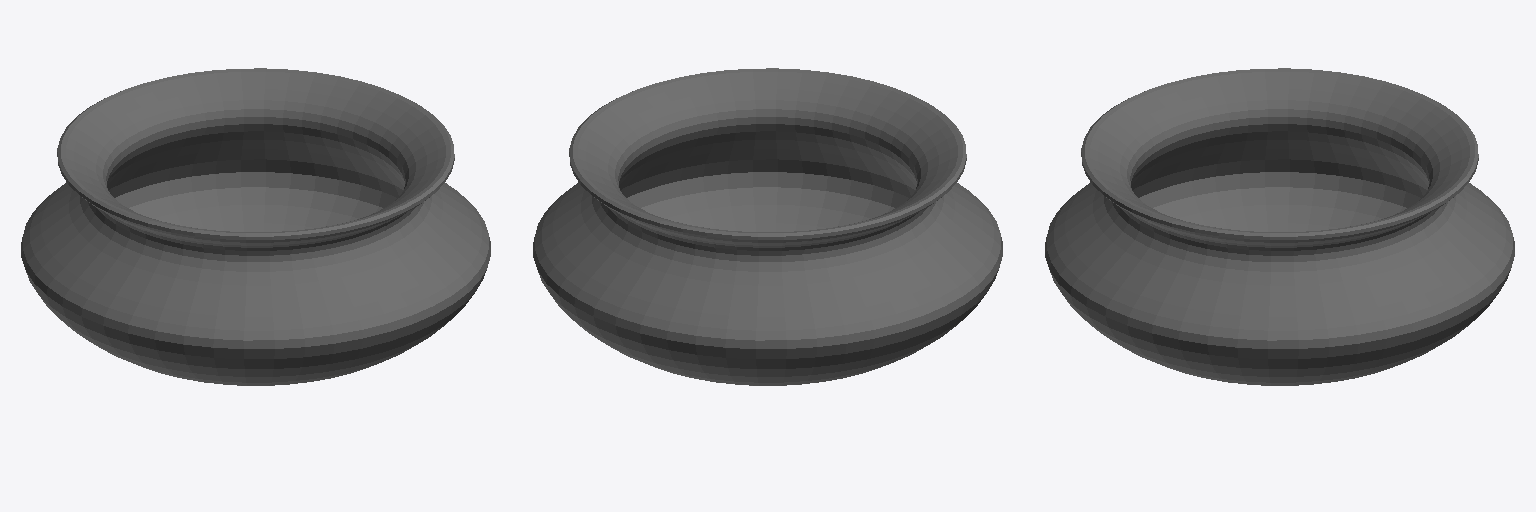
3 renders of one model, left to right at view 1: azimuth 30°, elevation 25°; view 2: azimuth 150°, elevation 25°; view 3: azimuth 270°, elevation 25°, orthographic.
Parts seen in each view (by area): view 1: Vase_013; view 2: Vase_013; view 3: Vase_013.
Part boxes in pixels (left/top/right/bottom): Vase_013: left=21, top=68, right=490, bottom=385; Vase_013: left=533, top=68, right=1002, bottom=385; Vase_013: left=1045, top=68, right=1514, bottom=385.
Bounding box in the file's own units: 11.46 × 5.65 × 11.46.